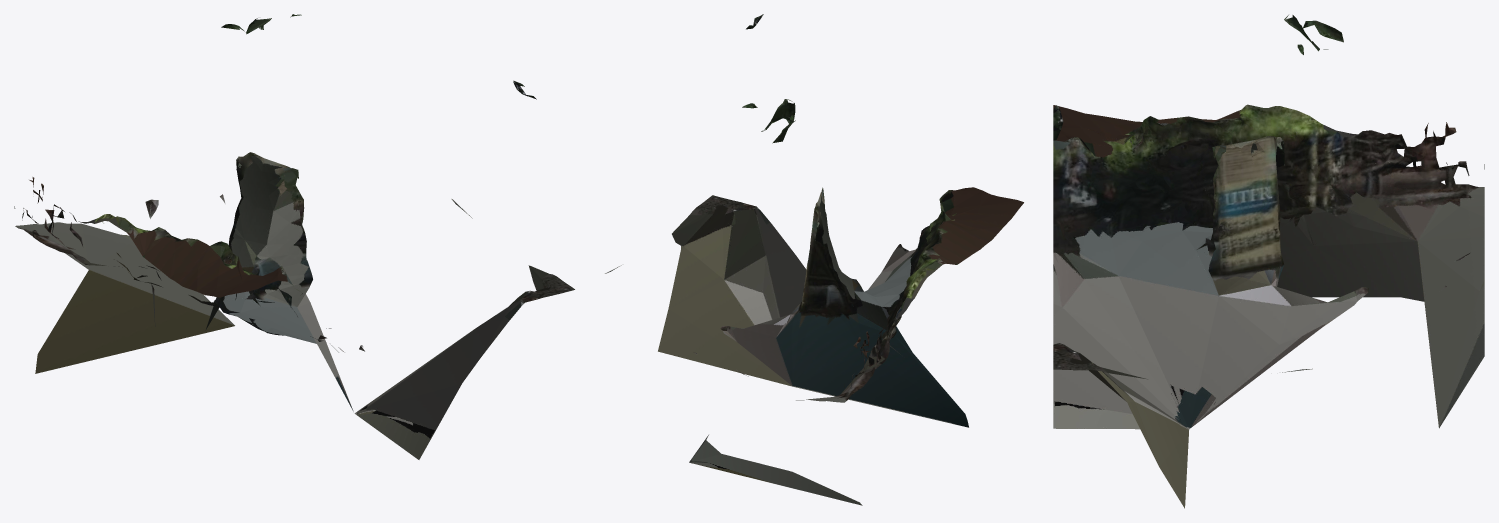
3 renders of one model, left to right at view 1: azimuth 30°, elevation 25°; view 2: azimuth 150°, elevation 25°; view 3: azimuth 270°, elevation 25°, orthographic. The views are drawn at different scales.
Bounding box in the file's own units: 3.93 × 3.92 × 3.93.
1 material, 1 textured.
